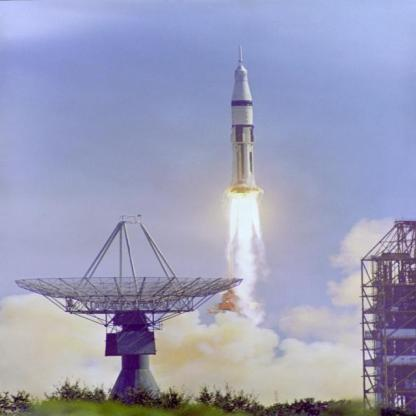MIL_TBM: (227, 60, 258, 195)
